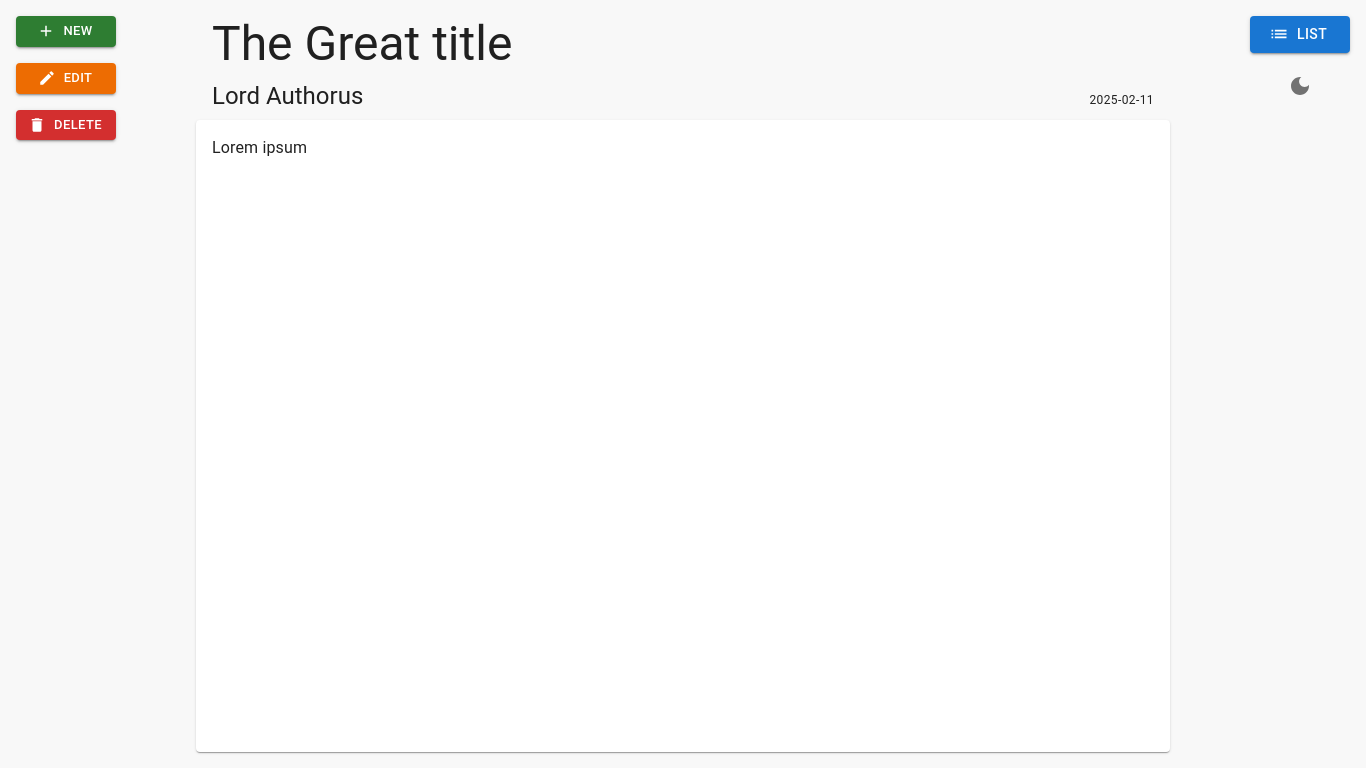
Test: can switch to edit mode
The width and height of the screenshot is (1366, 768).
Click the button "edit" at (66, 78), box x1=16 y1=63 x2=116 y2=94
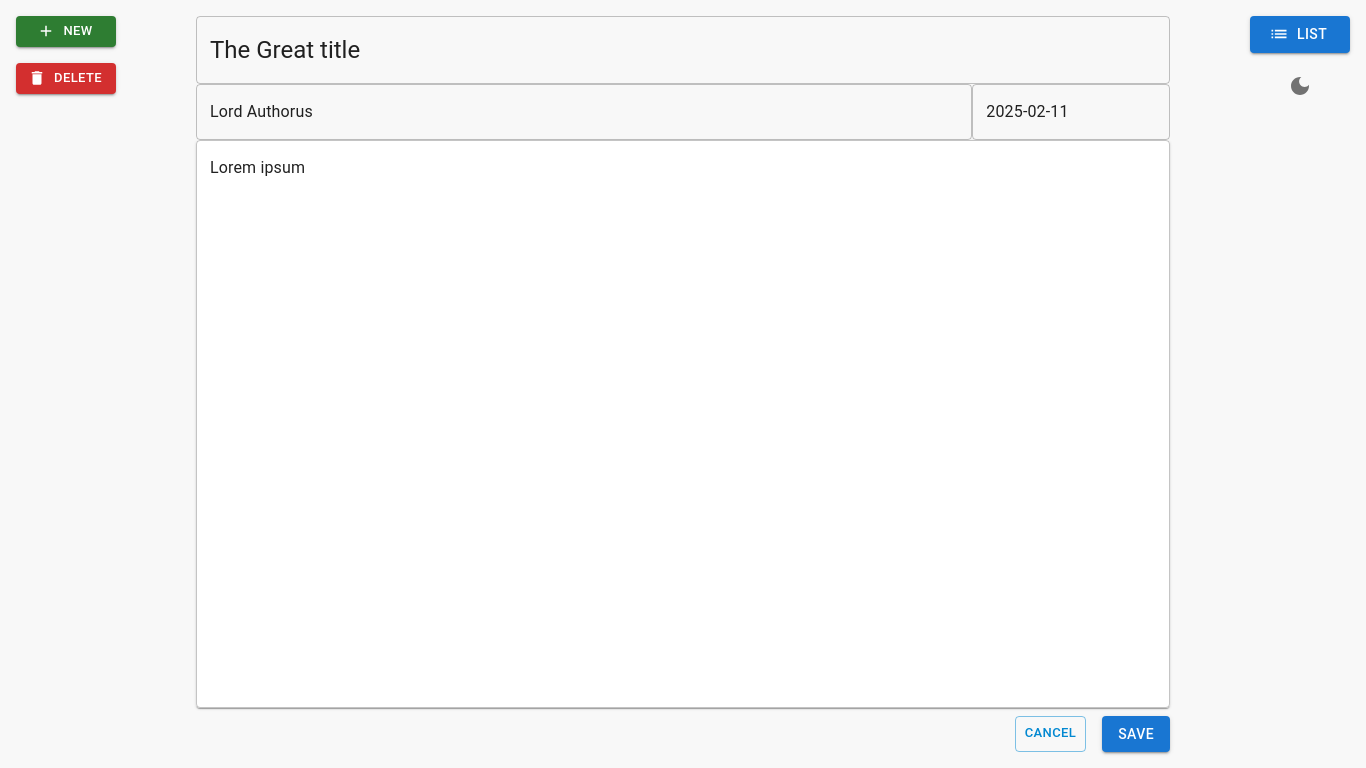
Check: the button "edit" is gone
